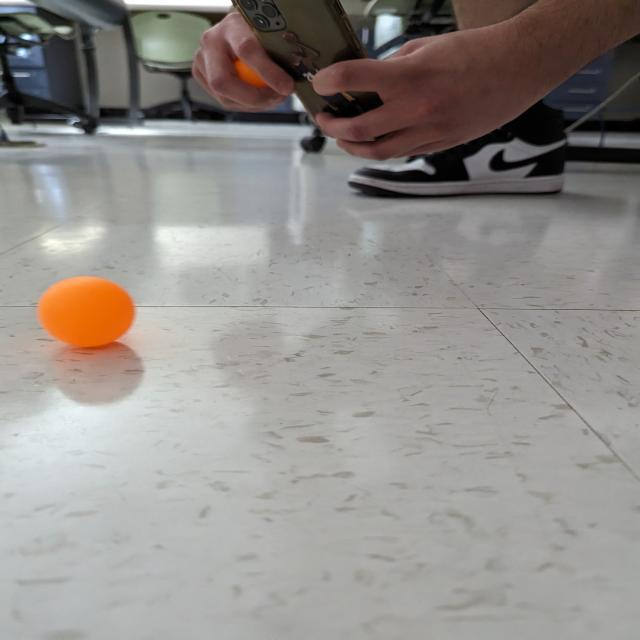ping-pong-ball: (32, 272, 142, 350)
